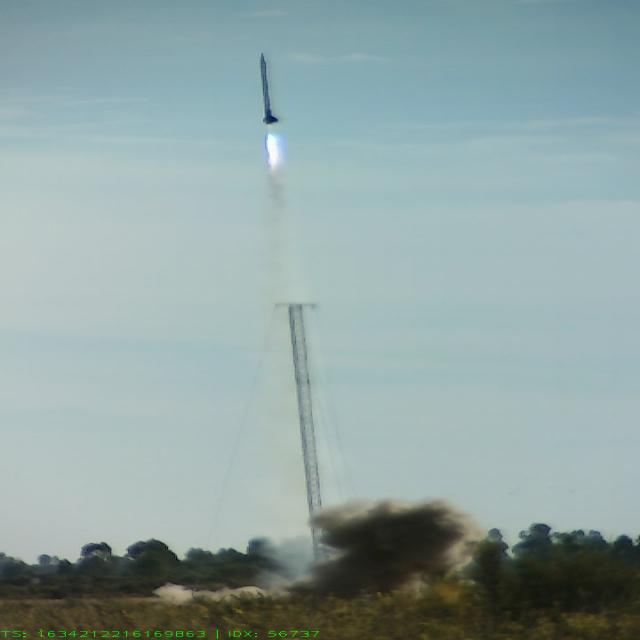Rocket: (260, 52, 279, 125)
